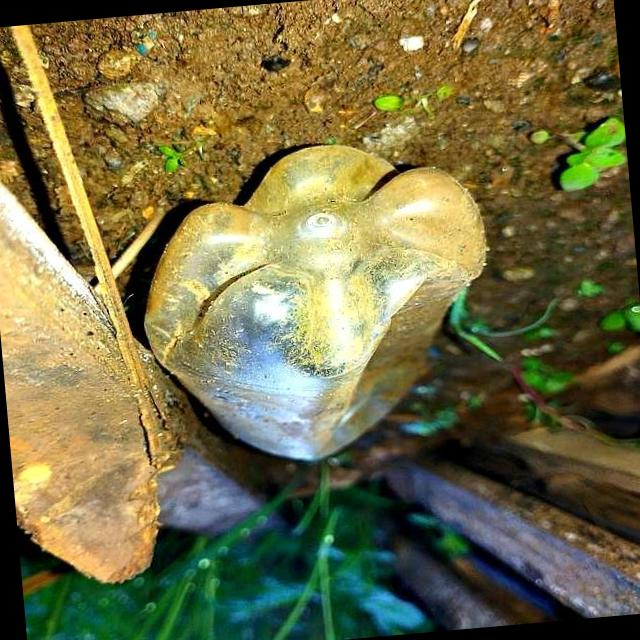Non-biodegradable: (131, 135, 499, 476)
